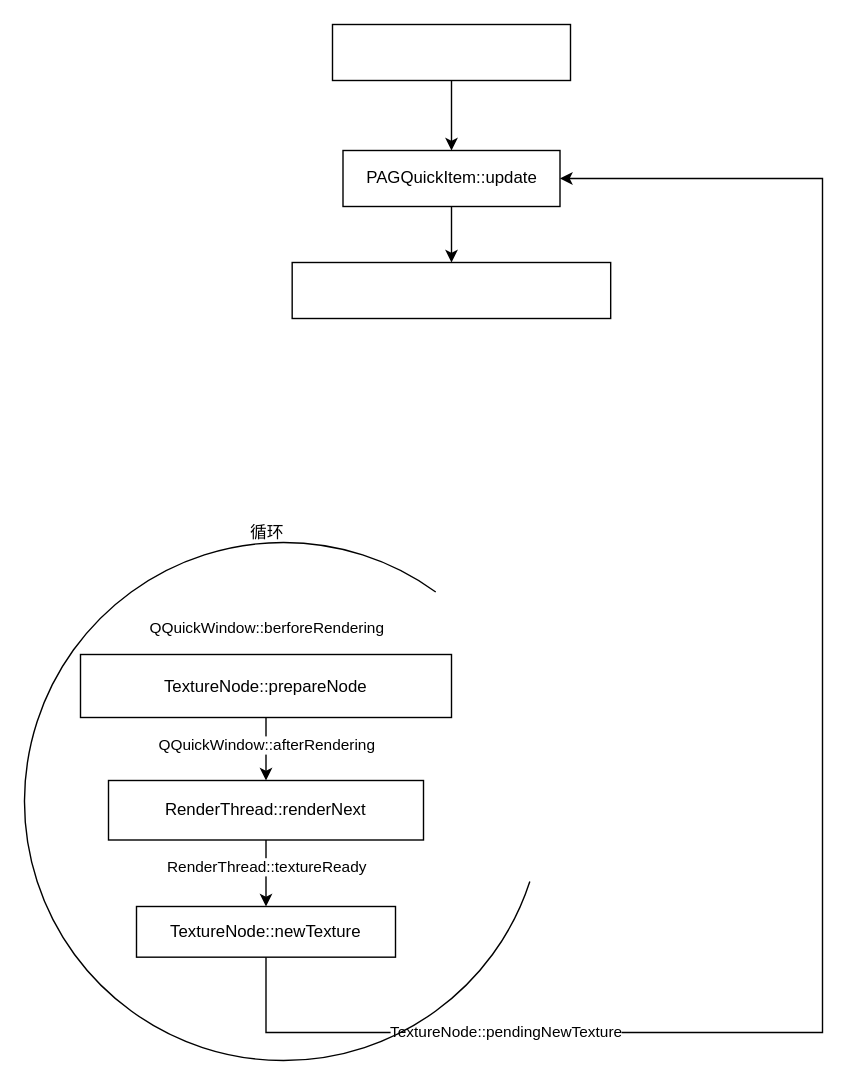
Image size: 858x1085. Some labels were removed from this diagram. The box of each missing label's shape, as (x1, y1, x2, y2) in pixels:
PAGQuickItem:: updatePaintNode: (291, 261, 611, 318)
PAGQuickItem::setProgress: (331, 23, 570, 80)
